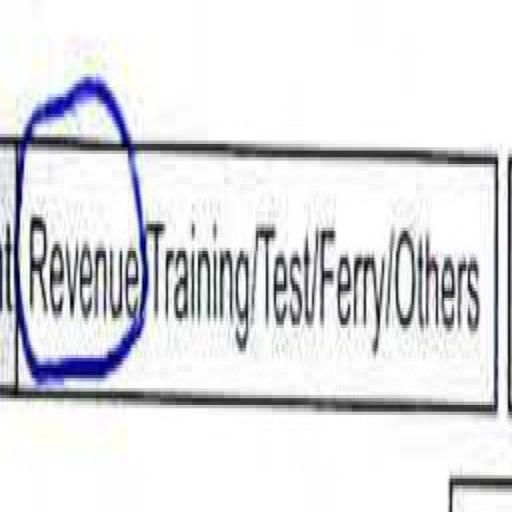check: (17, 74, 142, 440)
